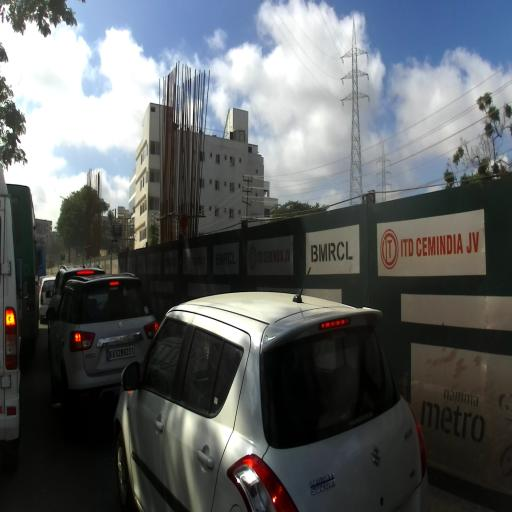street_light_0: (71, 196, 86, 206), (60, 196, 72, 206)
